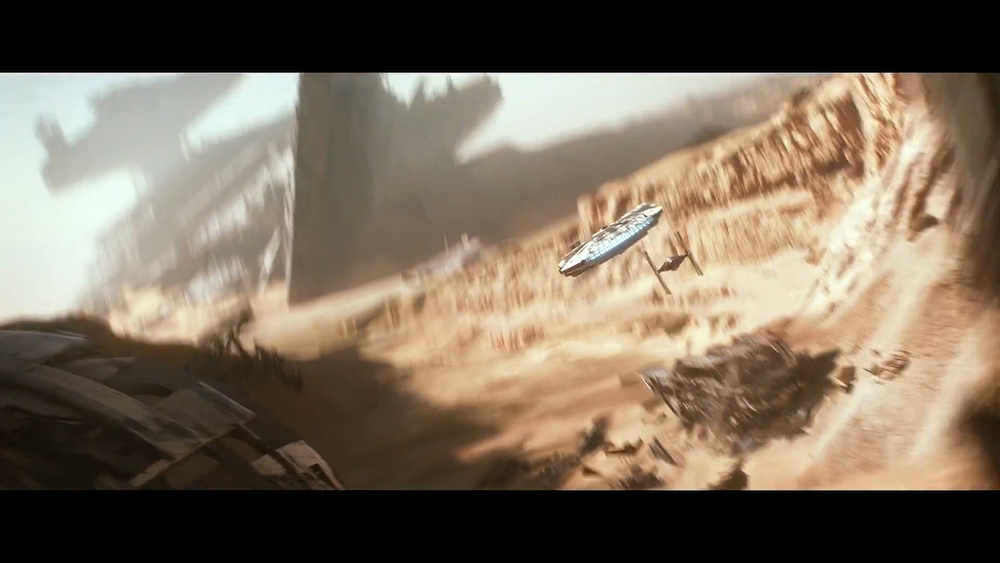Millennium Falcon: (557, 202, 664, 279)
Tie Fighter: (642, 232, 704, 296)
